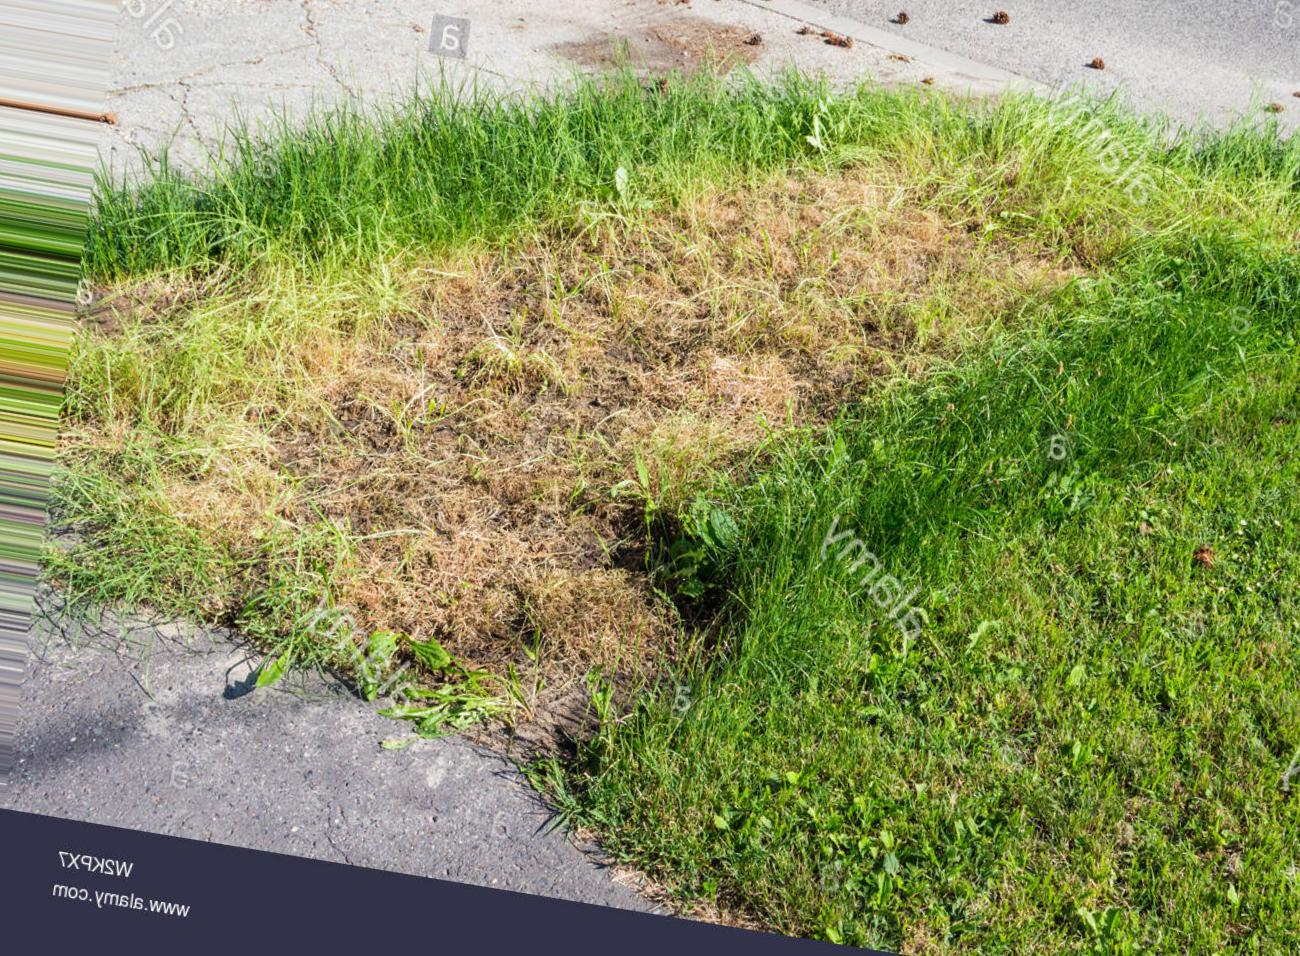patch: (535, 265, 892, 413), (201, 391, 480, 573), (734, 199, 849, 249), (363, 293, 491, 338), (865, 191, 967, 243), (967, 269, 1056, 308)
